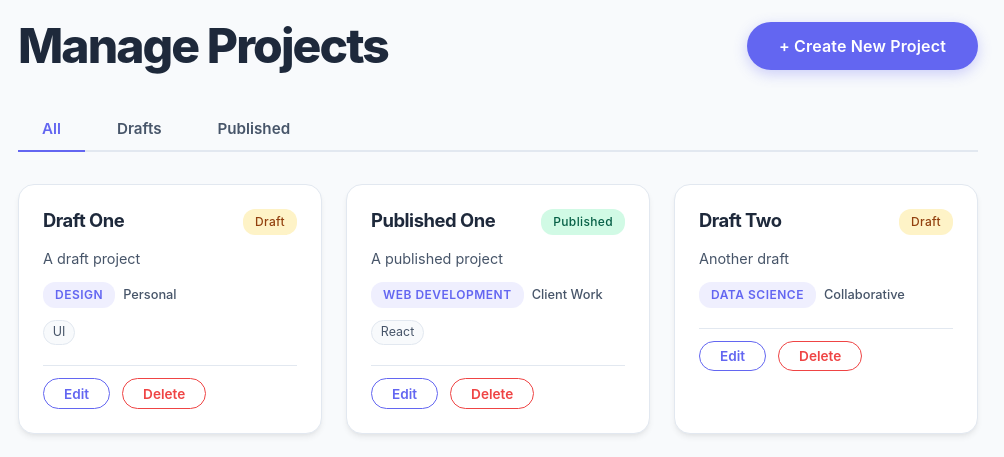
Test: ProjectsManager › Filter tabs › shows all projects when All tab is clicked after filtering
Click the tab "Drafts" at (139, 129), box [93, 107, 186, 152]
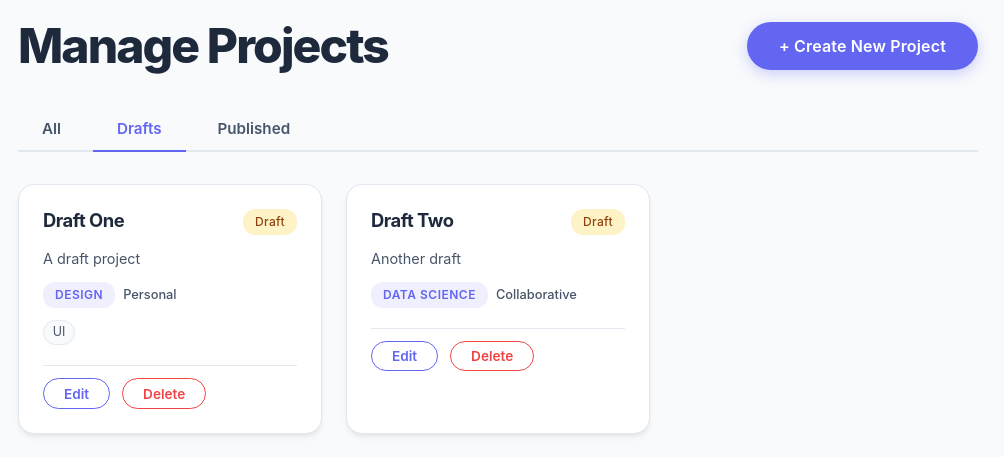
Click the tab "All" at (52, 129), box [18, 107, 85, 152]
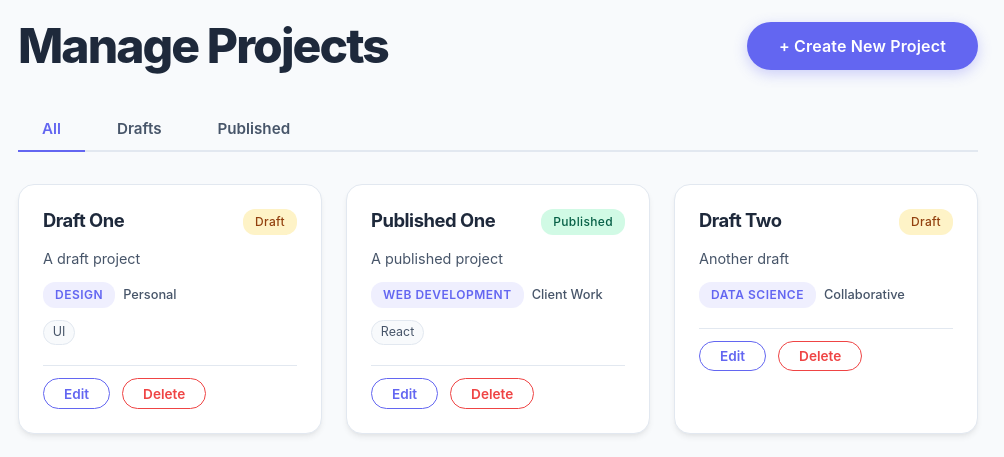
Check: the heading "Draft One" is shown, box [43, 209, 124, 232]
Check: the heading "Published One" is shown, box [371, 209, 495, 232]
